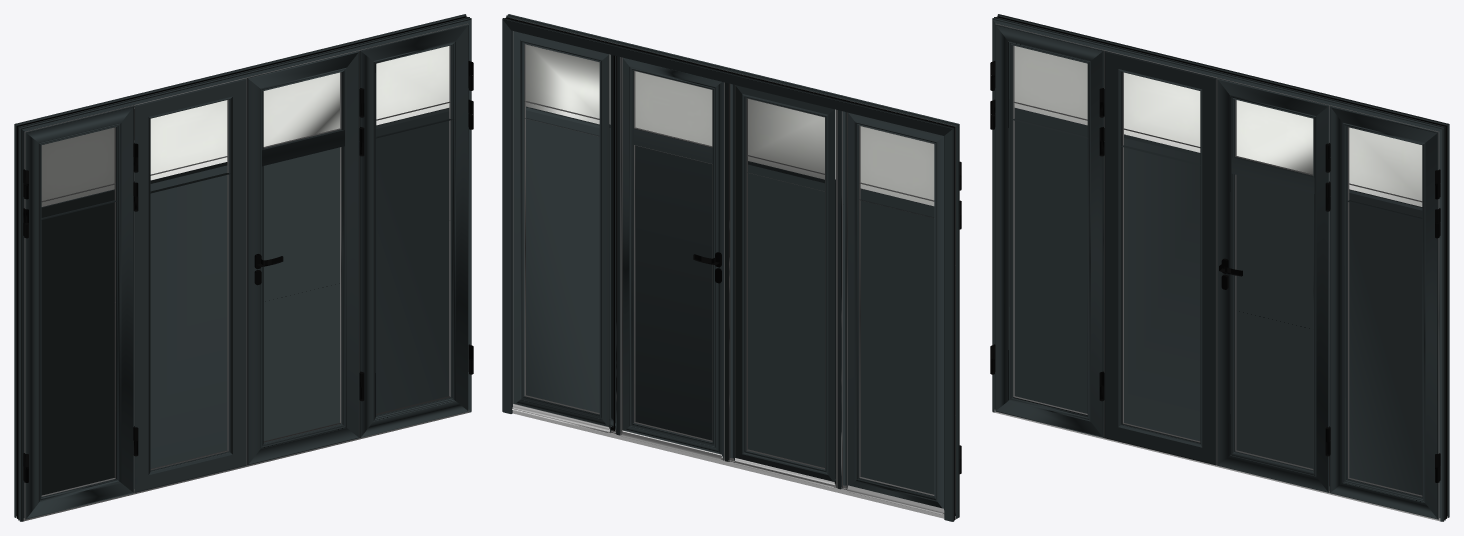
Rendered from 12239_avechublot.fbx.
The picture shows the model from 3 angles, left to right: view 1: azimuth 30°, elevation 25°; view 2: azimuth 150°, elevation 25°; view 3: azimuth 330°, elevation 25°; orthographic projection.
Visible parts, largest first — view 1: ouvrant1, ouvrant2, ouvrant22, ouvrant11, onduline4; view 2: ouvrant2, ouvrant22, ouvrant11, ouvrant1, onduline4; view 3: ouvrant2, ouvrant1, ouvrant11, ouvrant22, onduline4.
Part boxes in pixels (bbox=[...]): ouvrant1: bbox=[246, 50, 364, 465]; ouvrant2: bbox=[133, 77, 246, 492]; ouvrant22: bbox=[23, 105, 138, 519]; ouvrant11: bbox=[359, 23, 473, 437]; onduline4: bbox=[14, 14, 473, 521]; ouvrant2: bbox=[723, 73, 846, 487]; ouvrant22: bbox=[836, 100, 961, 514]; ouvrant11: bbox=[512, 18, 622, 435]; ouvrant1: bbox=[621, 45, 733, 460]; onduline4: bbox=[502, 14, 961, 521]; ouvrant2: bbox=[1099, 50, 1217, 465]; ouvrant1: bbox=[1217, 77, 1330, 492]; ouvrant11: bbox=[1325, 105, 1440, 519]; ouvrant22: bbox=[990, 23, 1104, 437]; onduline4: bbox=[990, 14, 1449, 521].
Bounding box in the file's own units: 240 × 200 × 16.63.
Materials: 1 (1 with a texture image).
